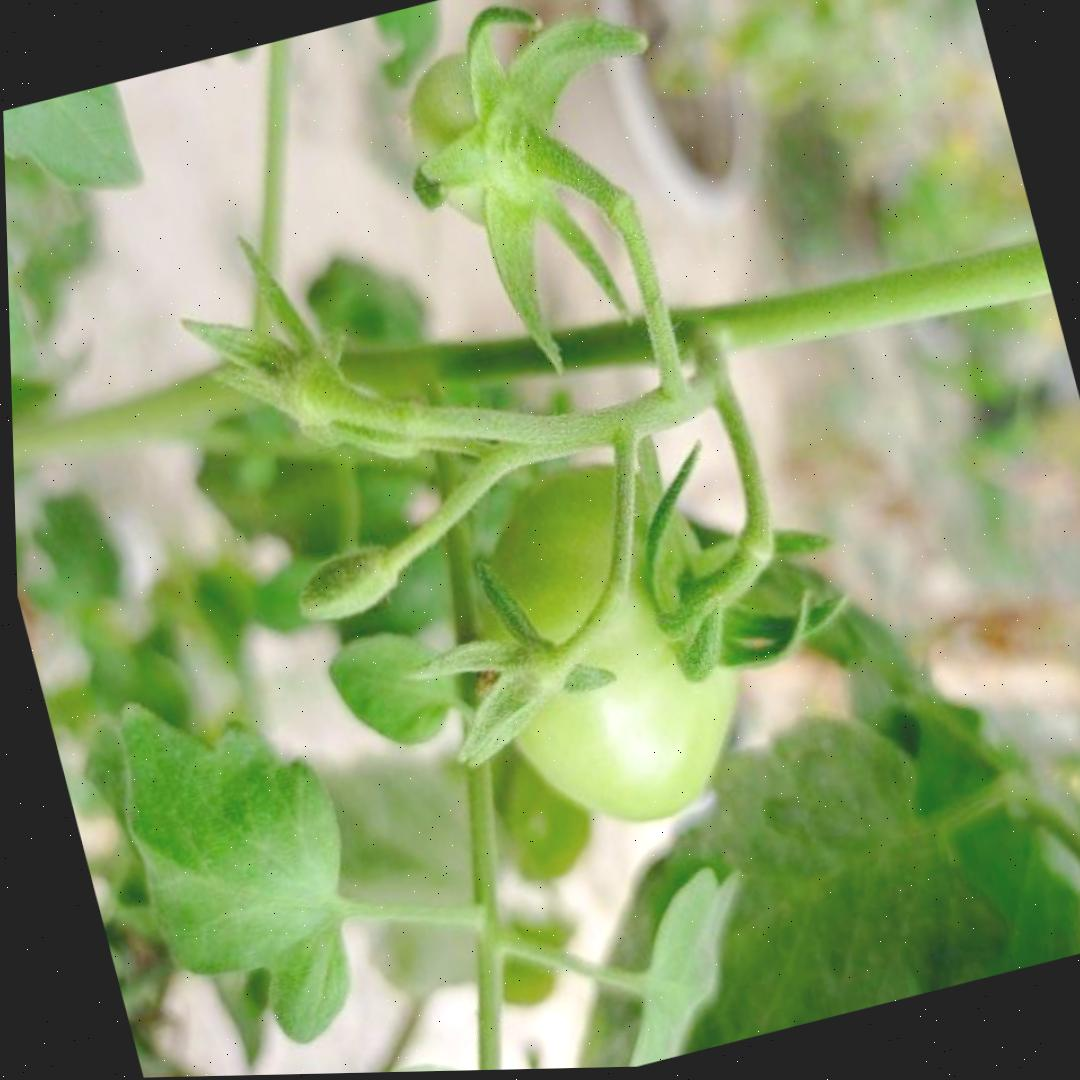mentah: (435, 430, 777, 854), (393, 29, 564, 243)
